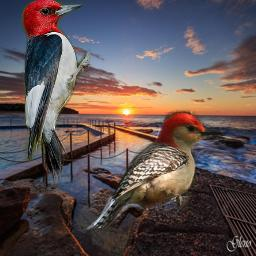Woodpecker: (85, 109, 228, 233), (18, 0, 96, 189)
